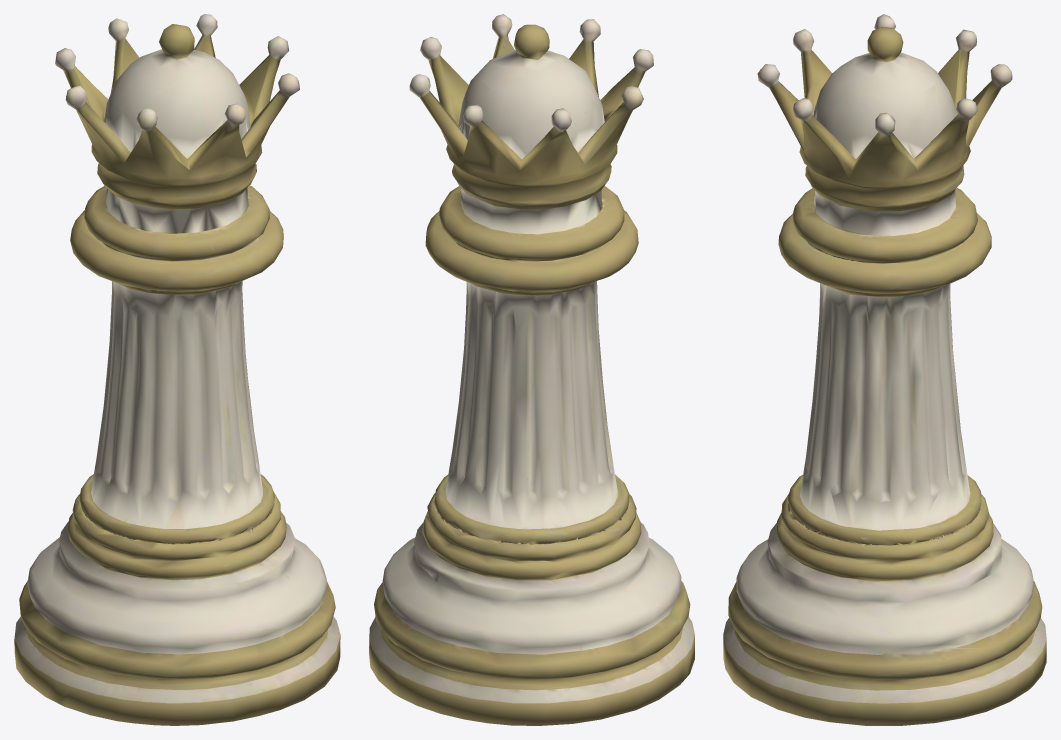
File: queen-classic-regina-10k.glb
3 renders of one model, left to right at view 1: azimuth 30°, elevation 25°; view 2: azimuth 150°, elevation 25°; view 3: azimuth 270°, elevation 25°, orthographic.
Parts seen in each view (by area): view 1: world; view 2: world; view 3: world.
Part boxes in pixels (x1=…): world: x1=14, y1=14, x2=340, y2=725; world: x1=369, y1=14, x2=694, y2=725; world: x1=723, y1=14, x2=1046, y2=725.
Size of the model in its own units: 0.7689 by 1.65 by 0.7684.
1 material, 1 textured.
